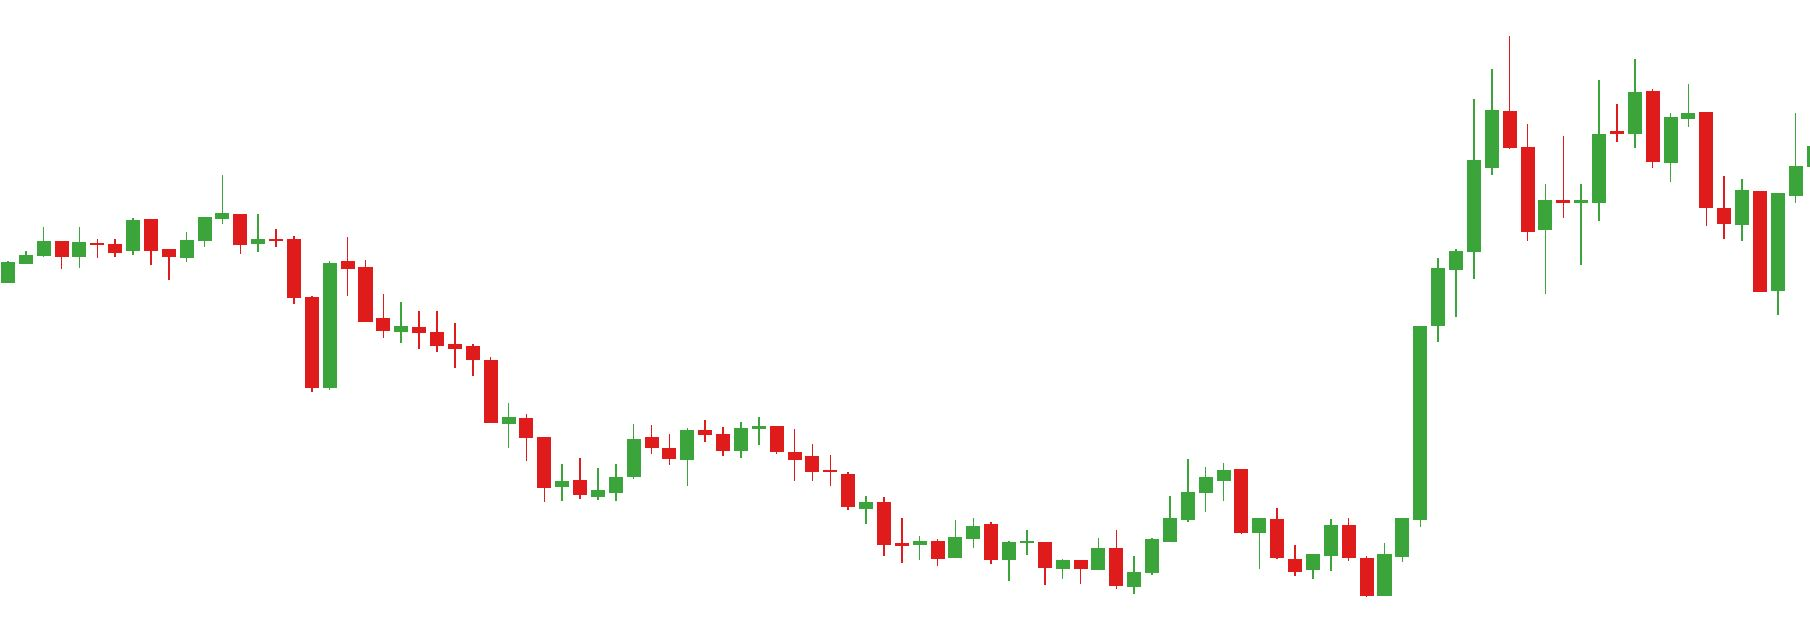sell: (124, 173, 231, 252)
